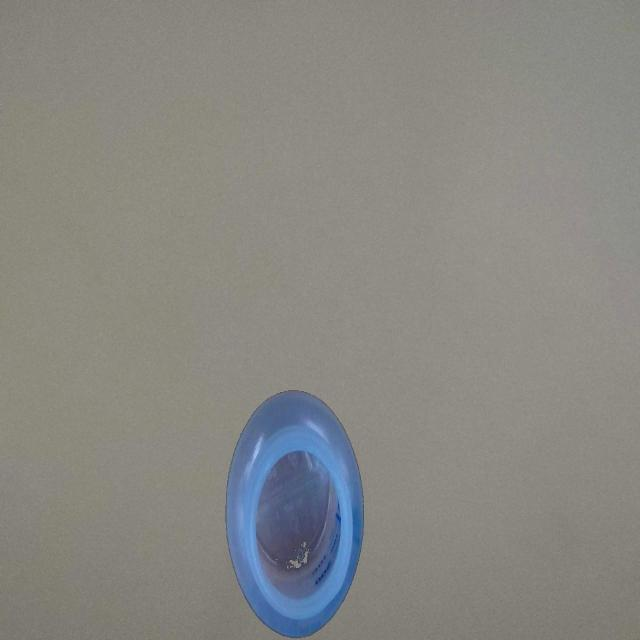bottle: (223, 386, 367, 640)
